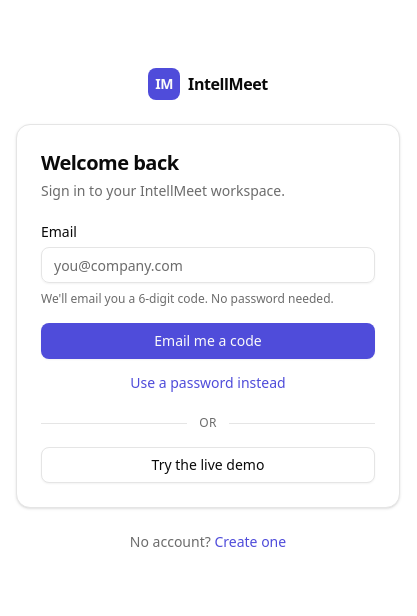
Test: <LoginPage /> › shows the server message when the credentials are rejected
The width and height of the screenshot is (417, 616).
Click the button "Use a password instead": click(208, 383) x1=41 y1=367 x2=375 y2=399
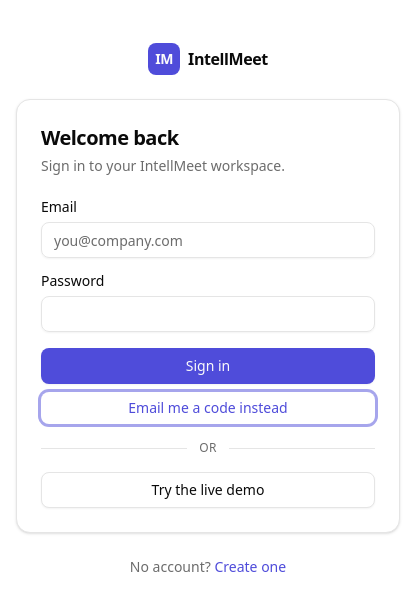
In the field labelled "Email": (208, 240) x1=41 y1=222 x2=375 y2=258, type "ada@example.com"
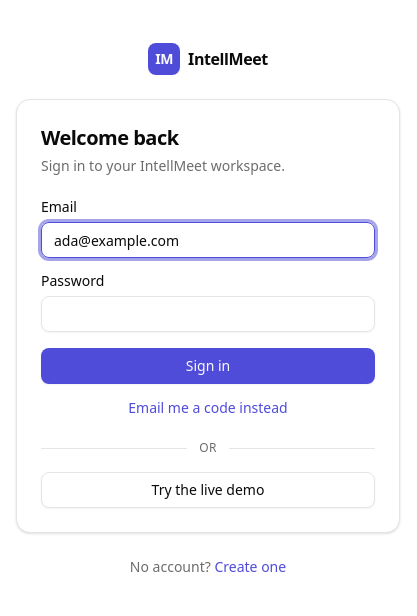
In the password field labelled "Password": (208, 314) x1=41 y1=296 x2=375 y2=332, type "Wrong-password-1"
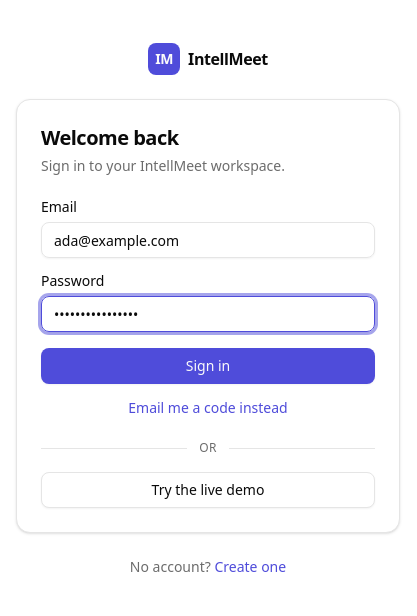
Click the button "Sign in": click(208, 366) x1=41 y1=348 x2=375 y2=384
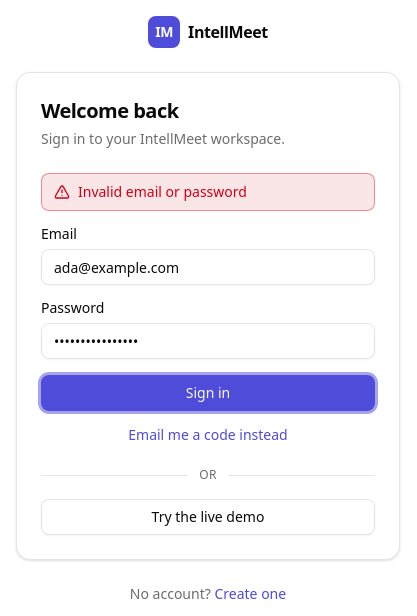
Expected: the message reads "Invalid email or password", x1=78 y1=182 x2=247 y2=201
